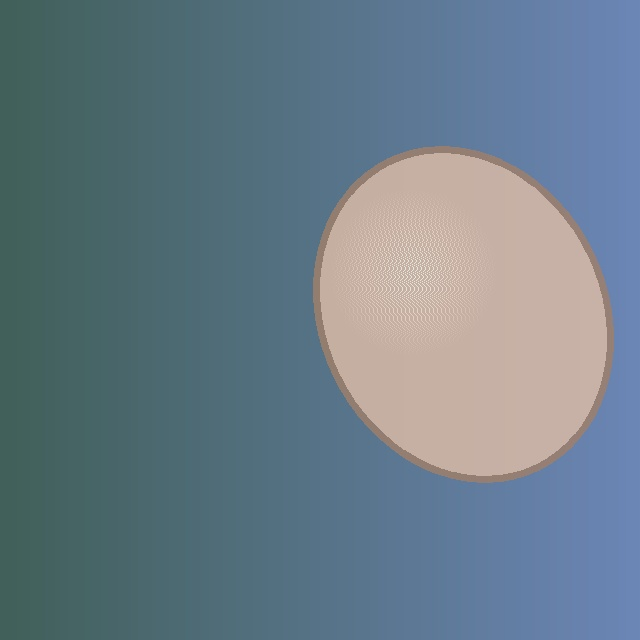lens: (316, 150, 610, 478)
